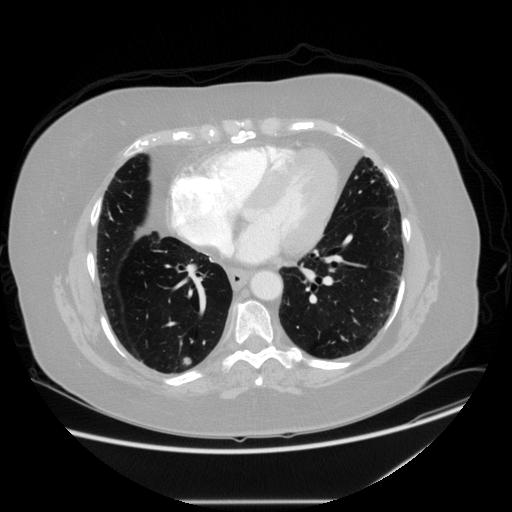nodule: (180, 354, 195, 369)
